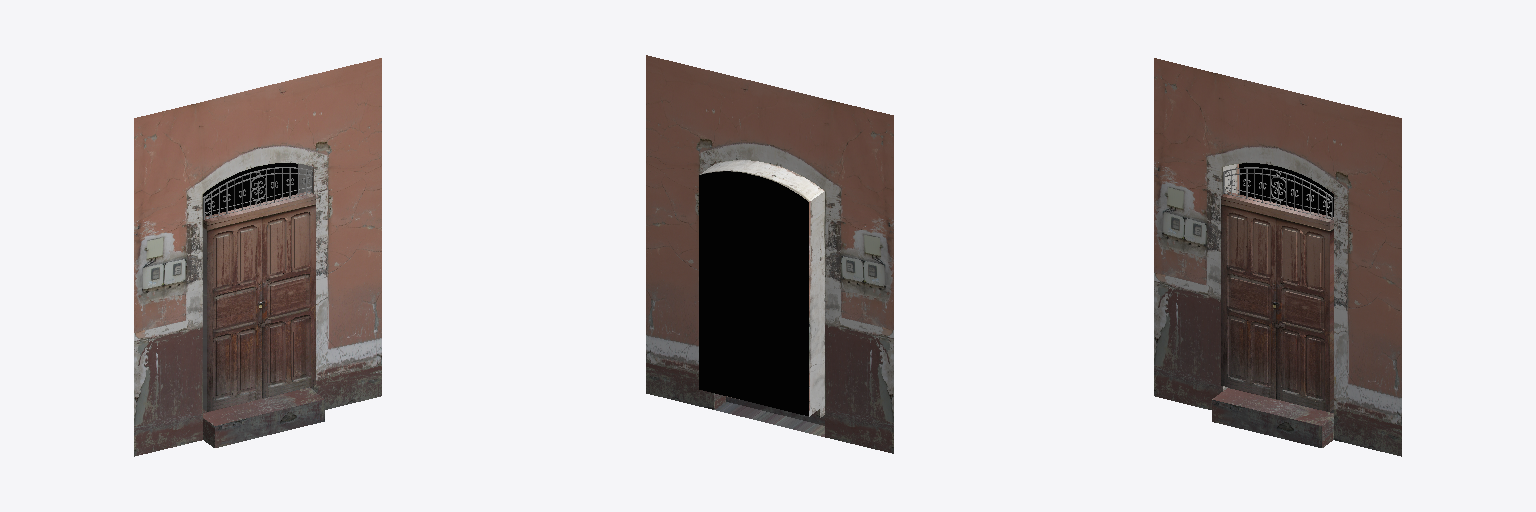
The picture shows the model from 3 angles: view 1: azimuth 30°, elevation 25°; view 2: azimuth 150°, elevation 25°; view 3: azimuth 330°, elevation 25°; orthographic projection.
Visible parts, largest first — view 1: Plane001, Object002, Object001; view 2: Plane001; view 3: Plane001, Object002, Object001.
Part boxes in pixels (bbox=[...]): Plane001: bbox=[134, 58, 381, 456]; Object002: bbox=[203, 191, 315, 411]; Object001: bbox=[203, 167, 312, 219]; Plane001: bbox=[646, 55, 893, 453]; Plane001: bbox=[1154, 58, 1401, 456]; Object002: bbox=[1221, 191, 1333, 411]; Object001: bbox=[1223, 167, 1332, 219].
Bounding box in the file's own units: 7.96 × 10.38 × 1.5.
Materials: 9 (3 with a texture image).